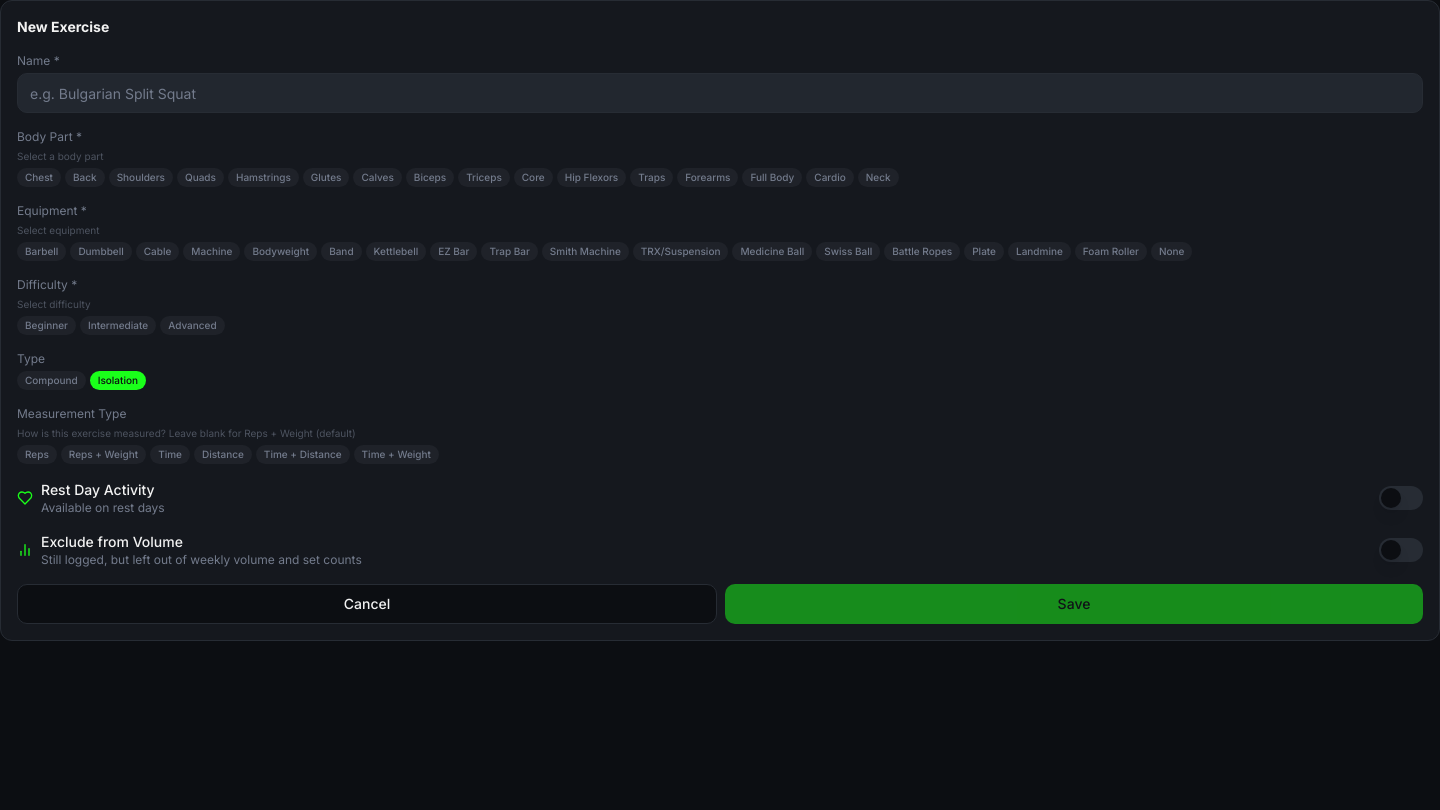
Test: CreateExerciseForm required fields › disables Save until name, body part, equipment, and difficulty are all chosen
This screenshot has width=1440, height=810.
Expected: the button "Save" is disabled, left=725, top=584, right=1423, bottom=624
Type a name
Type "Test Exercise" into the field with placeholder "e.g. Bulgarian Split Squat" at (720, 93), box left=17, top=73, right=1423, bottom=113
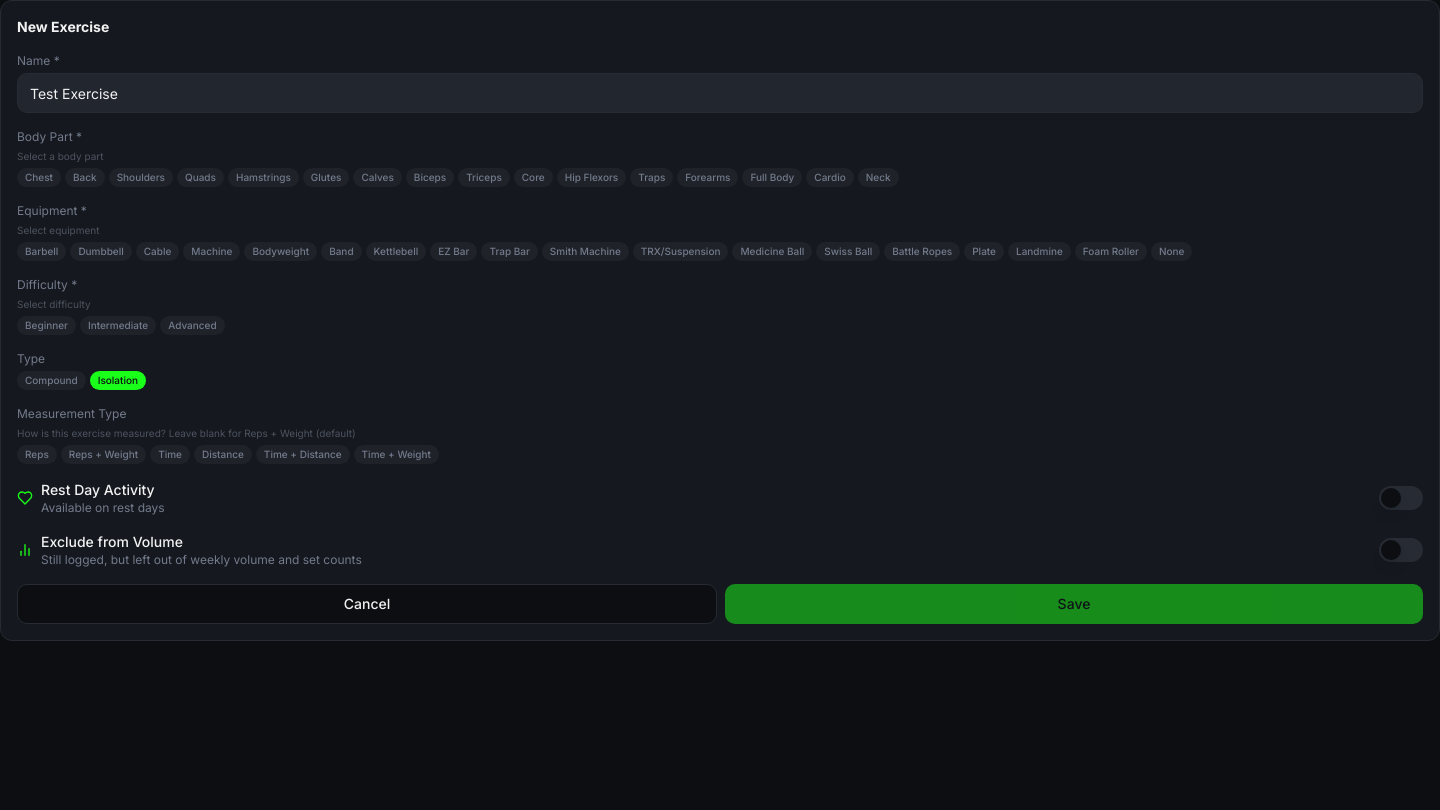
Expected: the button "Save" is disabled, left=725, top=584, right=1423, bottom=624
Pick body part (any chip in the body part section)
Click the button "Chest" at (39, 178), box left=17, top=168, right=61, bottom=187
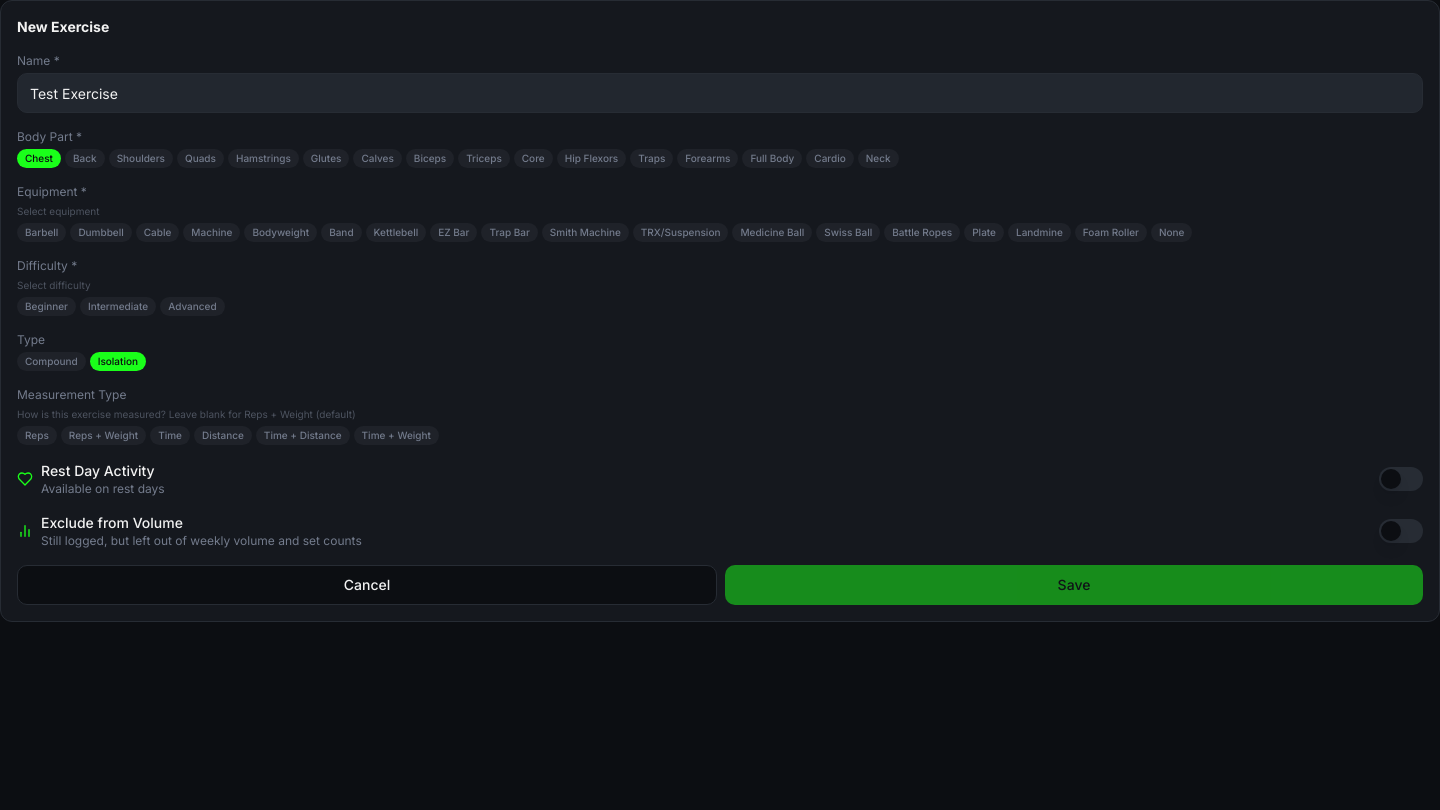
Expected: the button "Save" is disabled, left=725, top=565, right=1423, bottom=605
Pick equipment
Click the button "Barbell" at (42, 232), box left=17, top=223, right=66, bottom=242
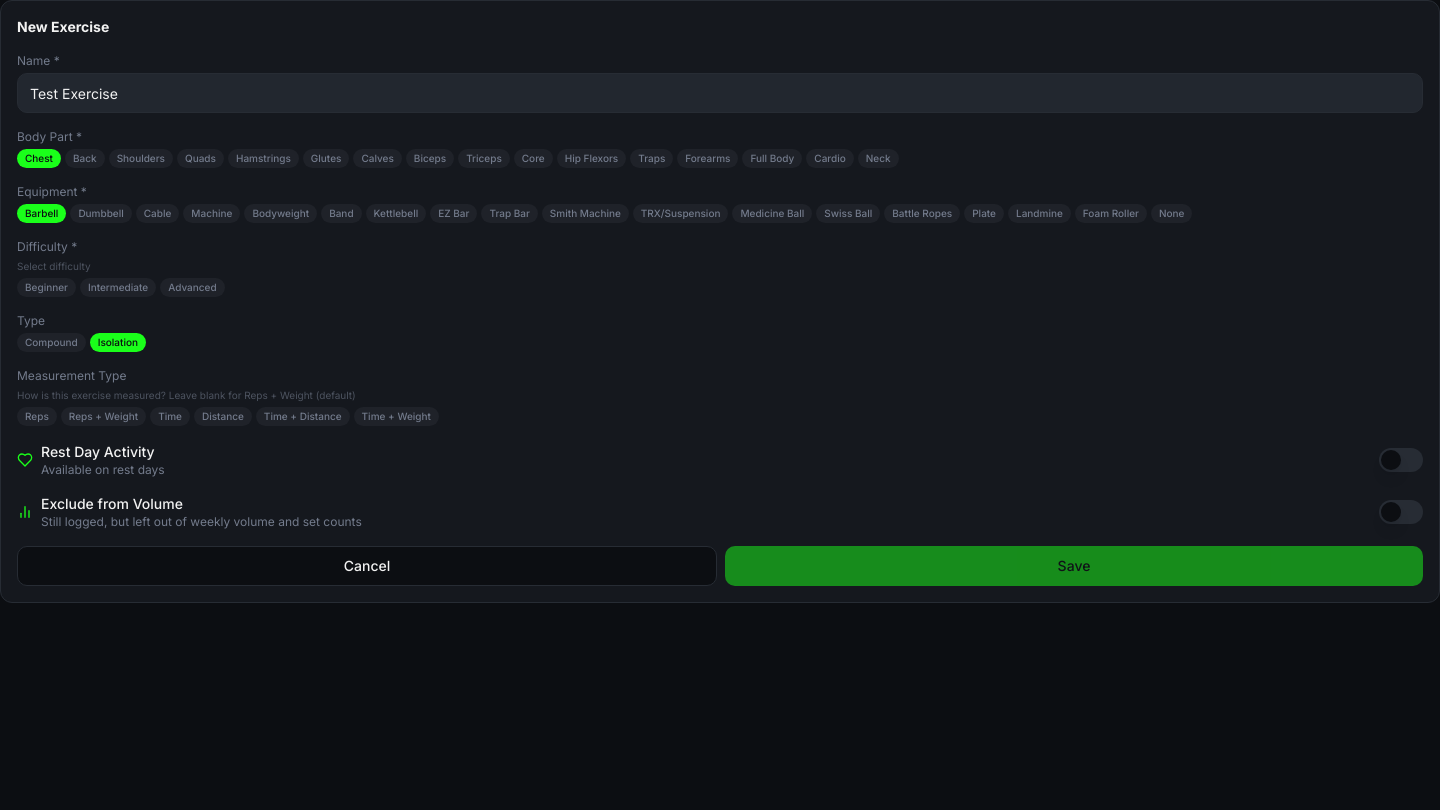
Expected: the button "Save" is disabled, left=725, top=546, right=1423, bottom=586
Pick difficulty → now Save should be enabled
Click the button "Intermediate" at (118, 288), box left=80, top=278, right=156, bottom=297
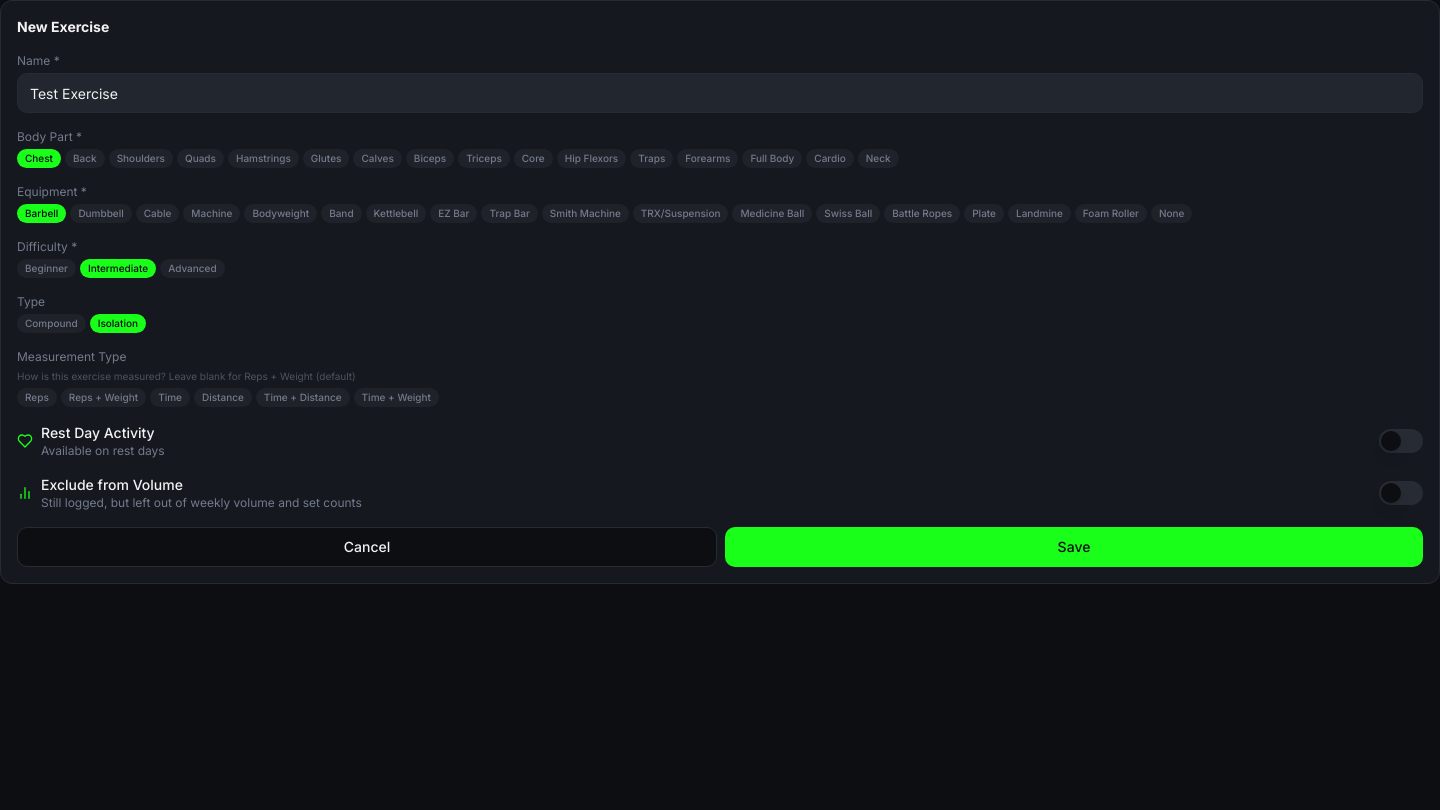
Expected: the button "Save" is enabled, left=725, top=527, right=1423, bottom=567
